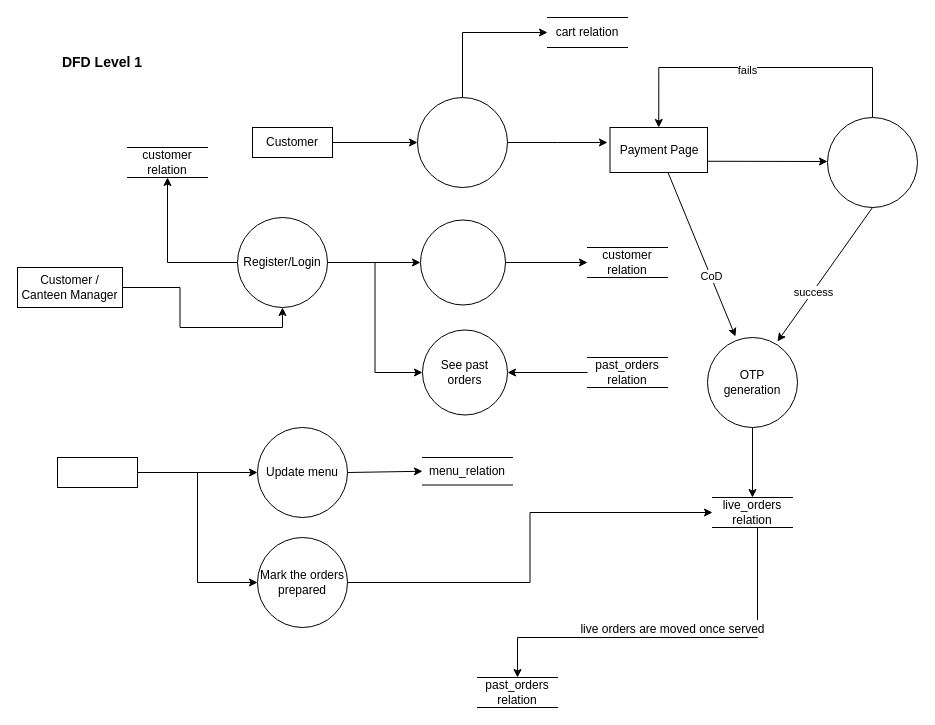
The diagram is 935 pixels wide and 725 high, and some of its shapes have lost their labels. Here are the shapes that lost their labels. From the top down, the centre of each, then its label:
point (462, 142): Select food items
point (872, 162): Onliine Payment
point (463, 262): Update credentials
point (97, 472): Canteen Manager
